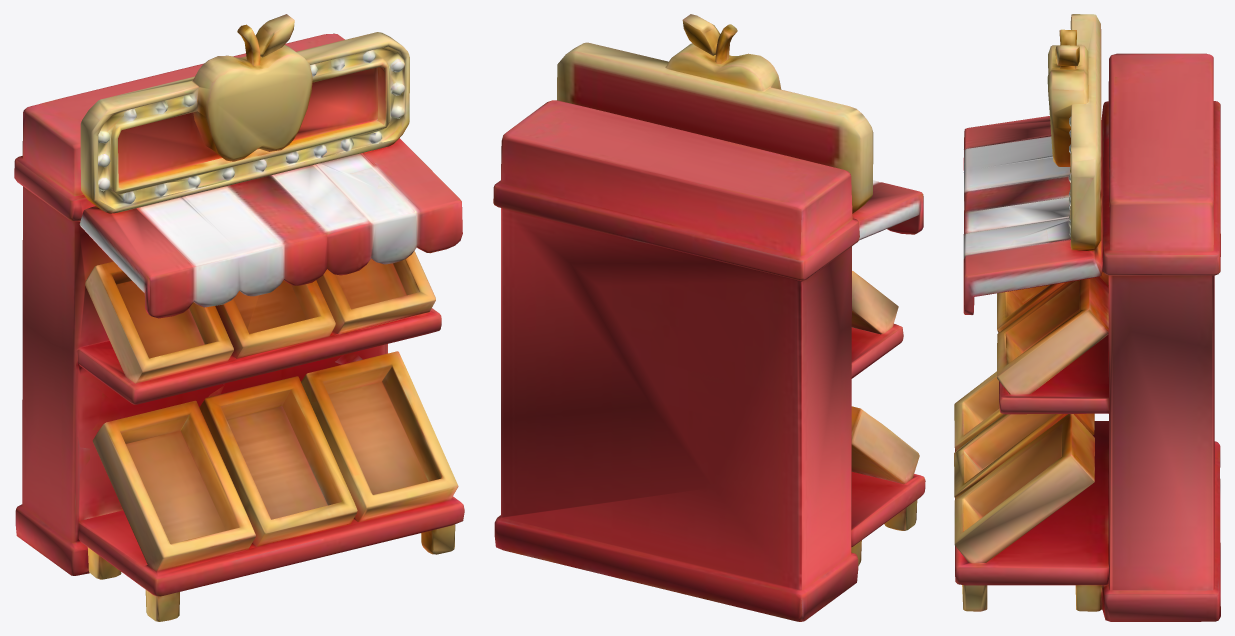
The model's file is guoshujia-3.glb.
3 views of the same model, side by side, from view 1: azimuth 30°, elevation 25°; view 2: azimuth 150°, elevation 25°; view 3: azimuth 270°, elevation 25° (orthographic). The views are drawn at different scales.
Parts seen in each view (by area): view 1: node_0; view 2: node_0; view 3: node_0.
Part boxes in pixels (bbox=[...]): node_0: bbox=[14, 14, 464, 621]; node_0: bbox=[493, 14, 925, 621]; node_0: bbox=[954, 14, 1220, 621].
Bounding box in the file's own units: 0.6126 × 0.9454 × 0.4452.
1 material, 1 textured.
